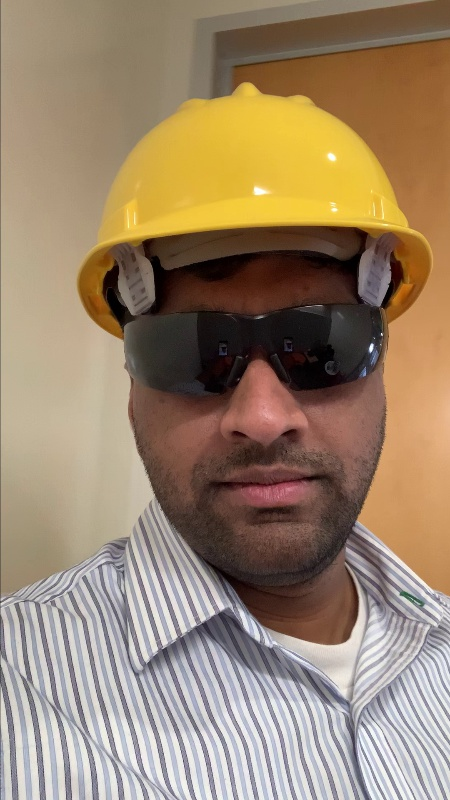glasses: (114, 300, 416, 401)
helmet: (66, 78, 432, 306)
